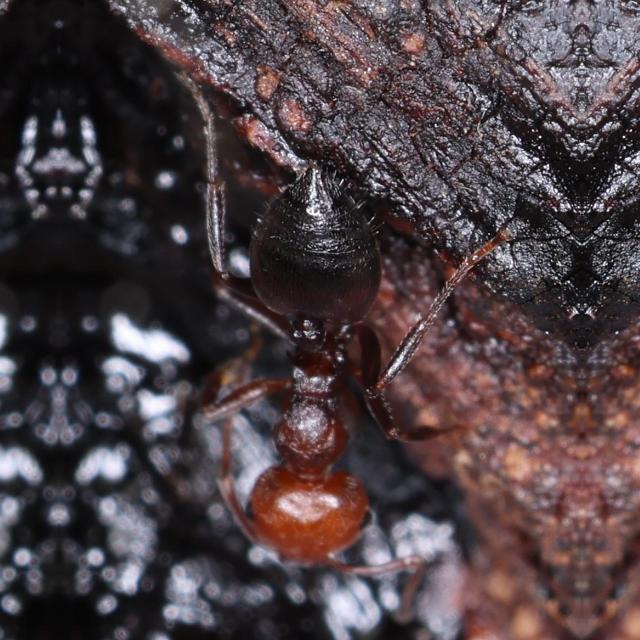Crematogaster: (210, 152, 420, 590)
